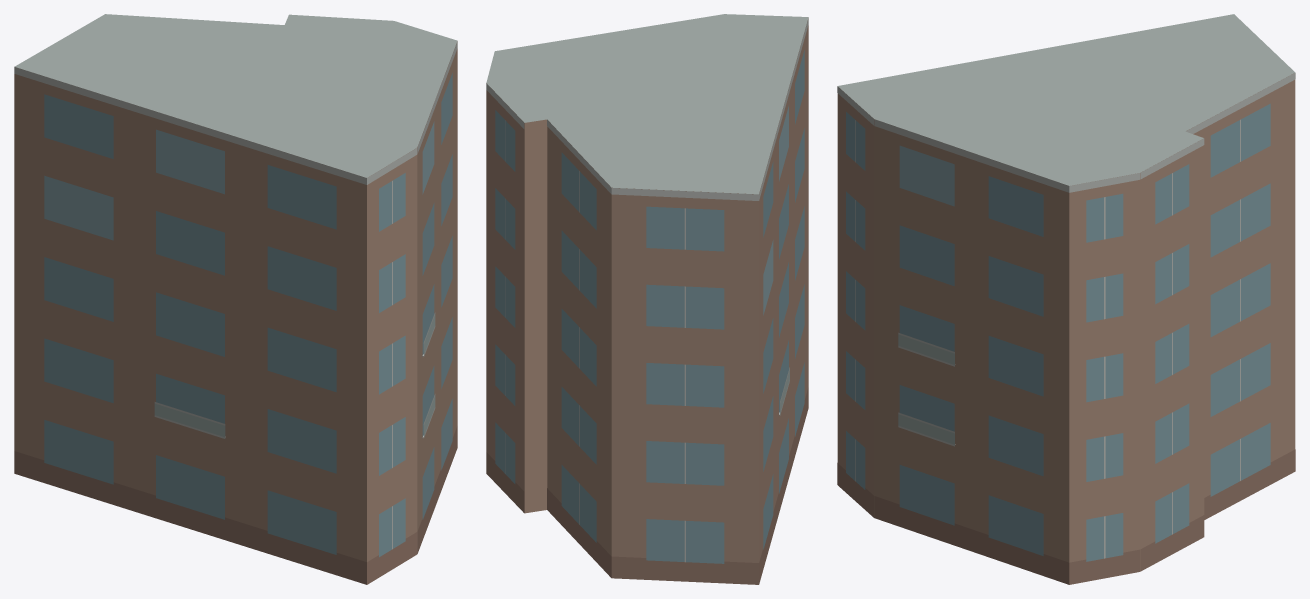
File: survey-upis-32680868.glb
3 renders of one model, left to right at view 1: azimuth 30°, elevation 25°; view 2: azimuth 150°, elevation 25°; view 3: azimuth 270°, elevation 25°, orthographic. The views are drawn at different scales.
Parts seen in each view (by area): view 1: survey-upis-32680868.tmp; view 2: survey-upis-32680868.tmp; view 3: survey-upis-32680868.tmp.
Boxes of the visible parts, left/top/right/bottom form: survey-upis-32680868.tmp: left=14, top=14, right=457, bottom=584; survey-upis-32680868.tmp: left=486, top=14, right=808, bottom=584; survey-upis-32680868.tmp: left=837, top=14, right=1295, bottom=584.
Bounding box in the file's own units: 13.04 × 14.1 × 14.68.
